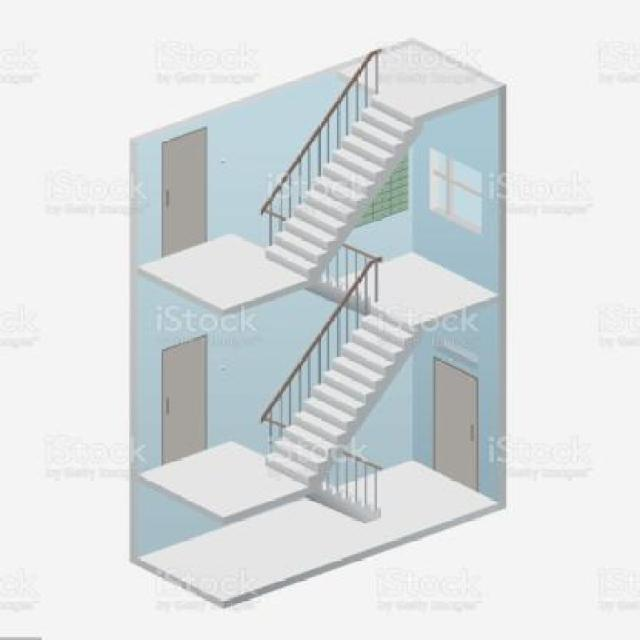stair: (240, 64, 438, 262), (238, 267, 438, 436), (246, 438, 397, 528)
